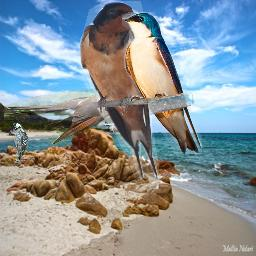Cuckoo: (4, 72, 145, 144)
Swallow: (79, 1, 159, 180), (122, 12, 202, 154)
Woodpecker: (12, 123, 28, 166)
